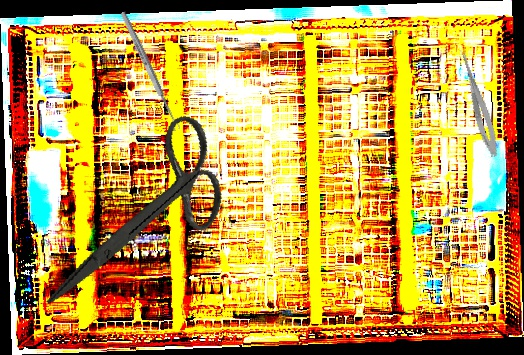Iris Scissors: (45, 93, 241, 339)
Micro Scissor: (453, 47, 503, 159)
Surgical Spoon: (118, 10, 182, 132)
